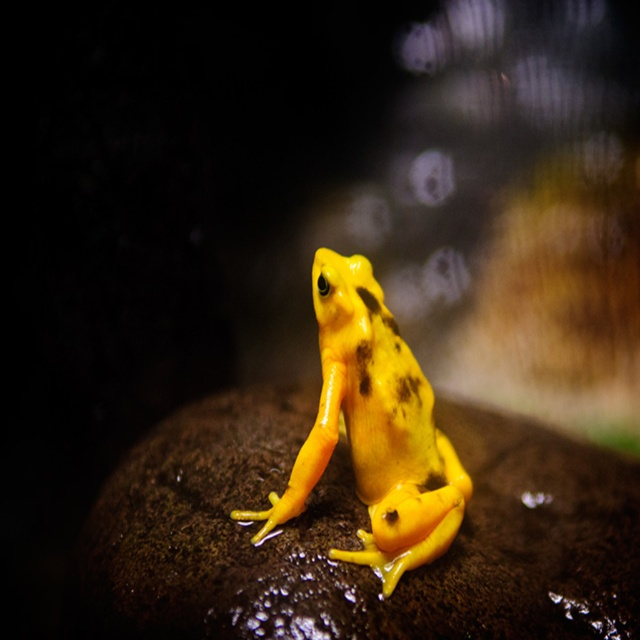Frog: (228, 244, 475, 600)
